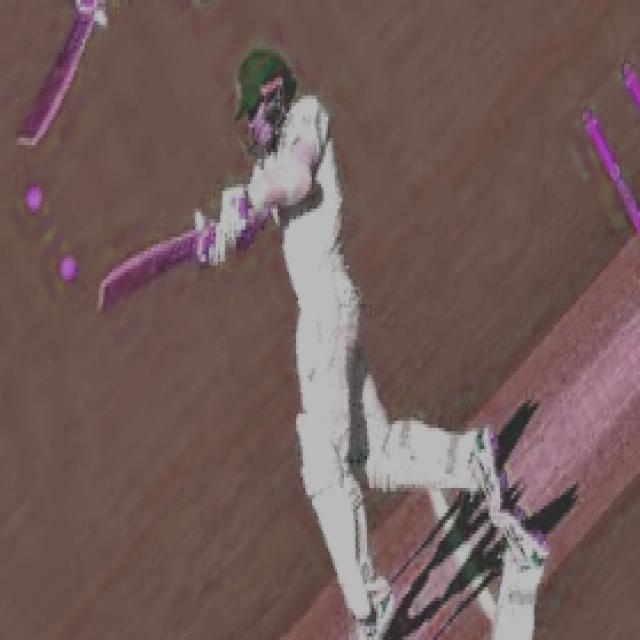toe: (86, 281, 121, 323)
